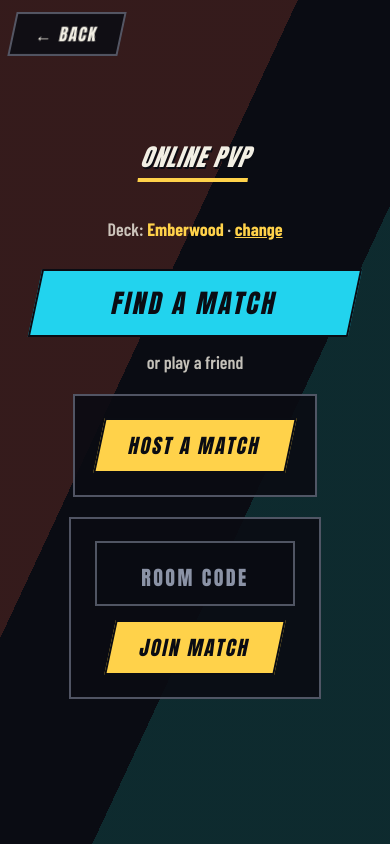
Scenario: the lobby, against a real second player › goes back to searching when the matched opponent never turns up, and says so
Earlier steps of the test are not shown.
Later steps or results of the test are not shown.
Click the button "Find a match" at (195, 303), box [28,269,362,337]
Wait 9800 ms
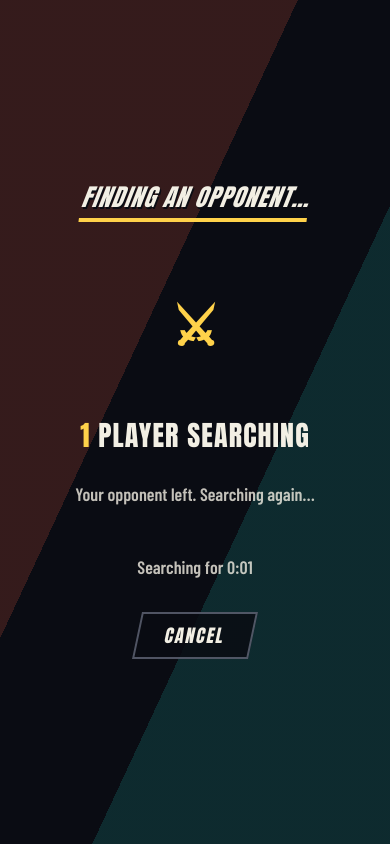
Expected: the element with test id "qm-count" is shown, [80,420,310,451]
Expected: the message shows "Your opponent left. Searching again", [75,483,315,505]
